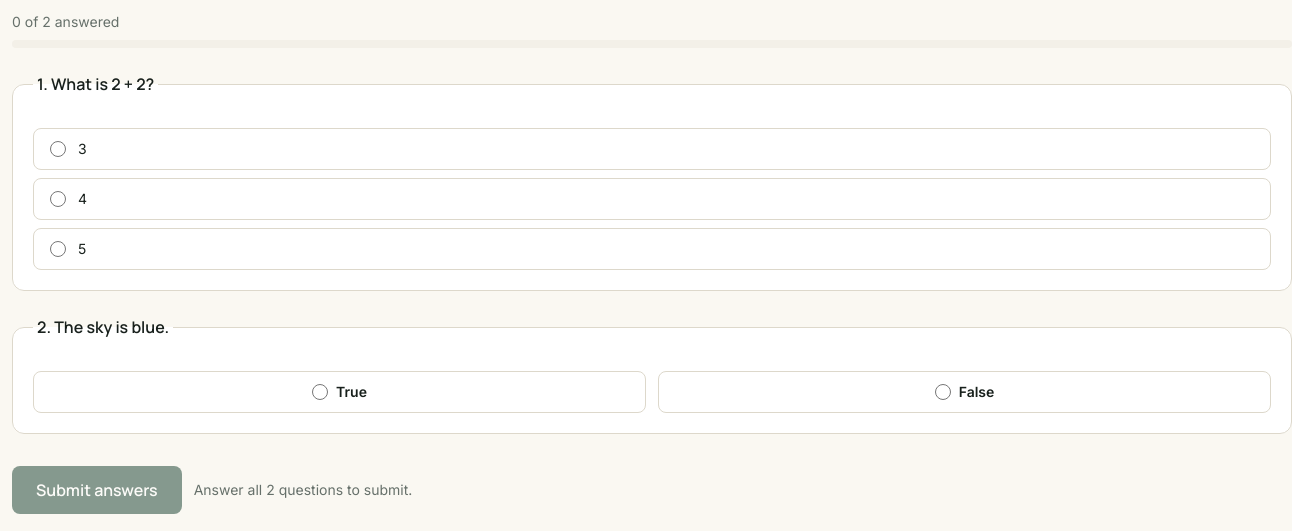
Test: Quiz › scores a partially-correct attempt correctly
Step 1. Click the radio button labelled "3" → (58, 149), box [50, 141, 66, 157]
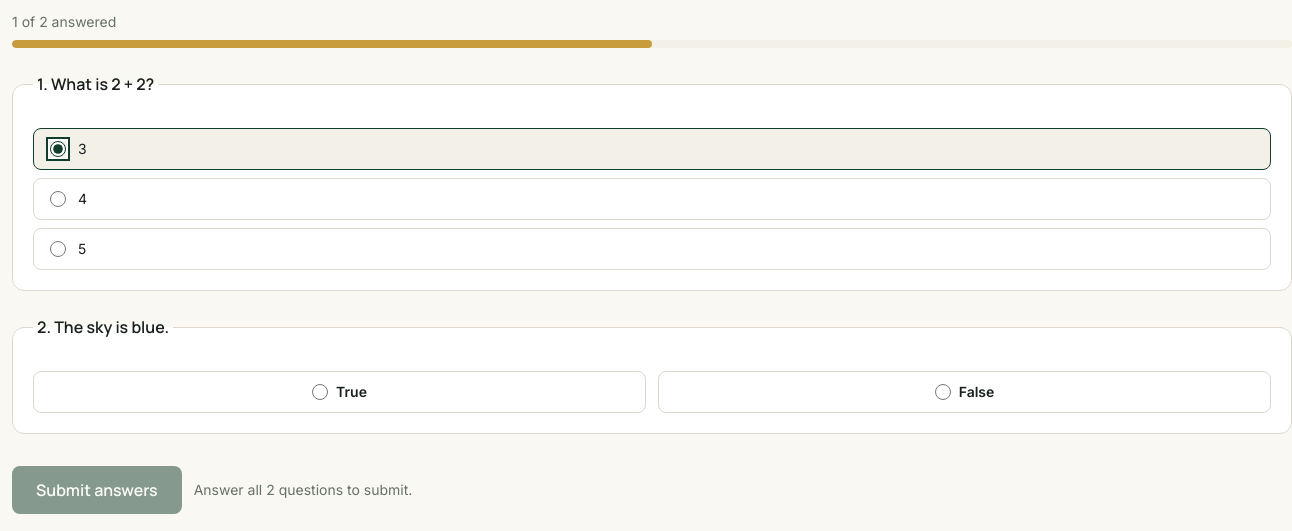
Step 2. Click the radio button labelled "True" → (320, 392), box [312, 384, 328, 400]
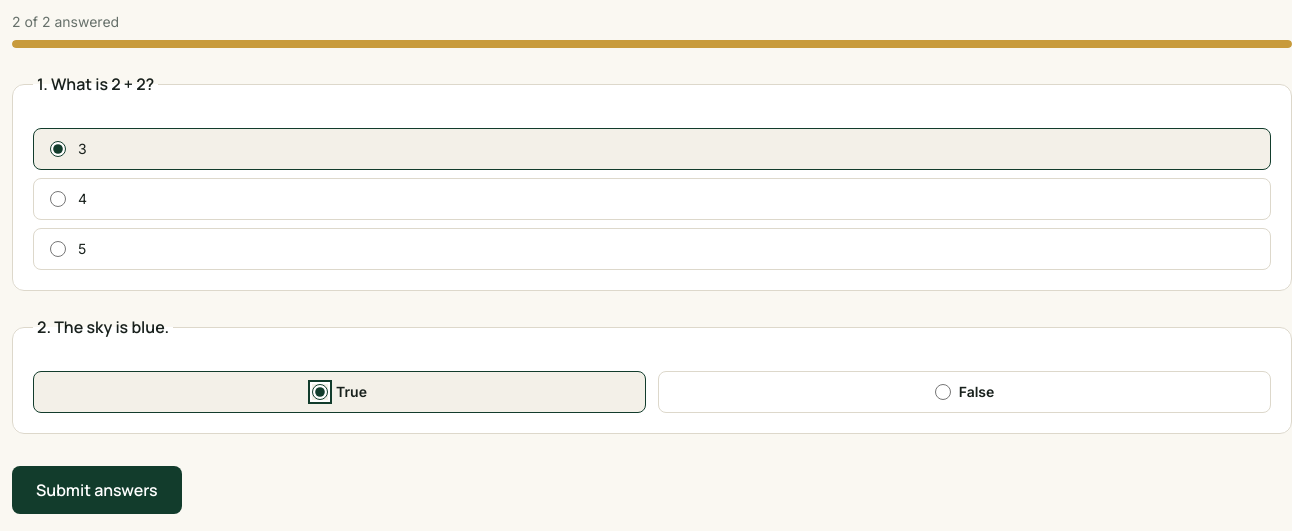
Step 3. Click the button "Submit answers" → (97, 490), box [12, 466, 182, 514]
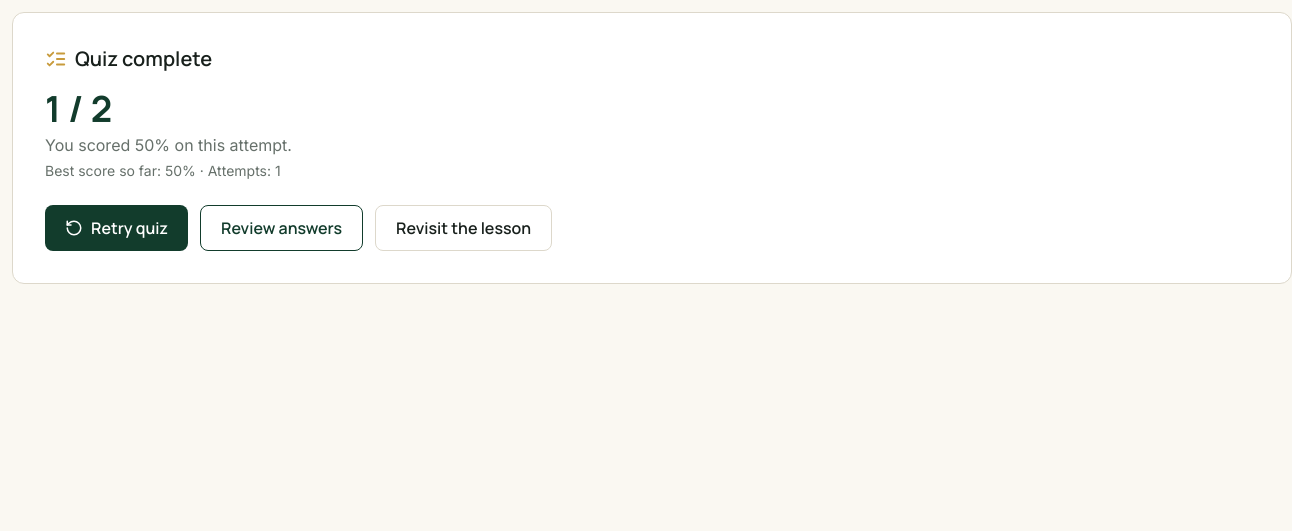
Now the text "1 / 2" is shown, box [45, 84, 112, 133]
Now the text "You scored 50% on this attempt." is shown, box [45, 135, 292, 155]
